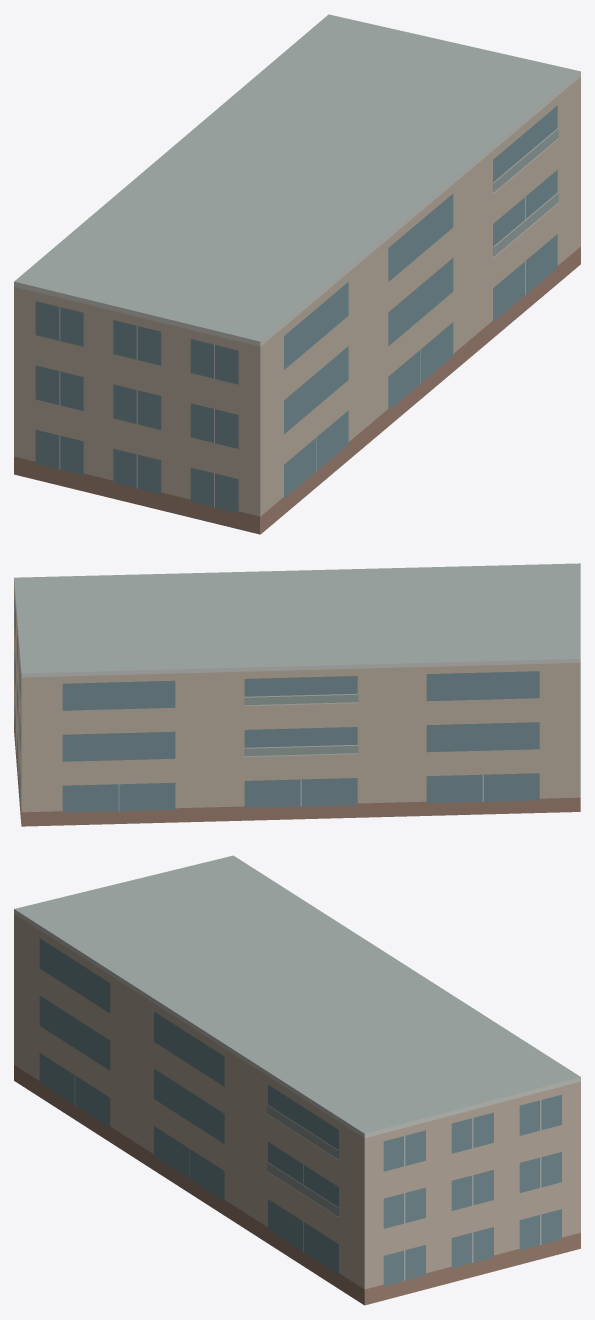
File: survey-upis-32590742.glb
3 views of the same model, one above another, from view 1: azimuth 30°, elevation 25°; view 2: azimuth 150°, elevation 25°; view 3: azimuth 270°, elevation 25° (orthographic). The views are drawn at different scales.
Parts seen in each view (by area): view 1: survey-upis-32590742.tmp; view 2: survey-upis-32590742.tmp; view 3: survey-upis-32590742.tmp.
Boxes of the visible parts, bbox=[...] form: survey-upis-32590742.tmp: bbox=[14, 14, 580, 534]; survey-upis-32590742.tmp: bbox=[14, 563, 580, 826]; survey-upis-32590742.tmp: bbox=[14, 855, 580, 1305].
Size of the model in its own units: 31.8 by 9.15 by 27.38.
